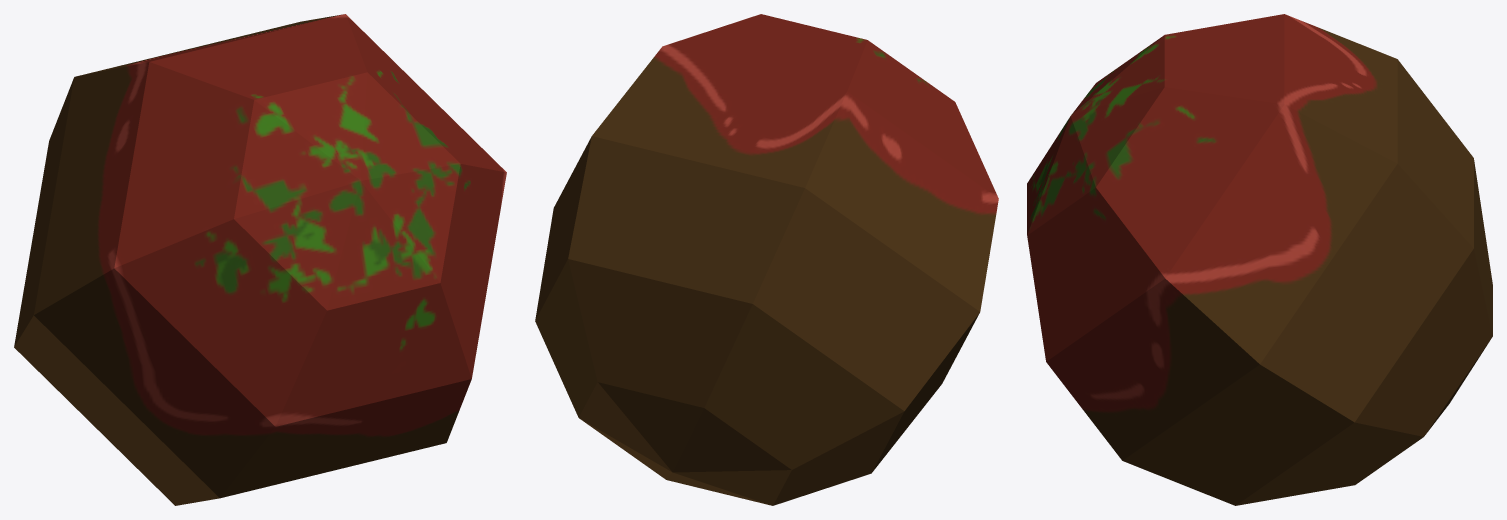
File: Meatball Ammo.fbx
3 renders of one model, left to right at view 1: azimuth 30°, elevation 25°; view 2: azimuth 150°, elevation 25°; view 3: azimuth 270°, elevation 25°, orthographic. The views are drawn at different scales.
Visible parts, largest first — view 1: pSphere11; view 2: pSphere11; view 3: pSphere11.
Boxes of the visible parts, <box> form: pSphere11: <box>14,14,506,505</box>; pSphere11: <box>535,14,998,505</box>; pSphere11: <box>1027,14,1492,505</box>.
Bounding box in the file's own units: 116 × 104 × 110.
Materials: 1 (1 with a texture image).
